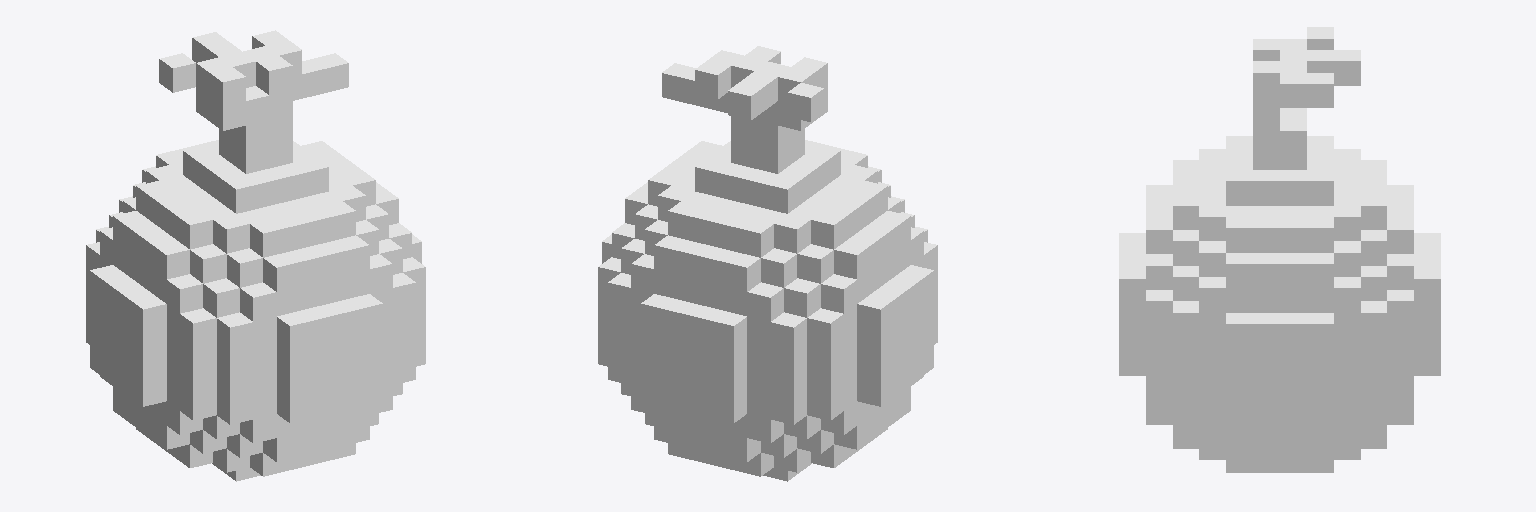
The model's file is Unripe.obj.
3 renders of one model, left to right at view 1: azimuth 30°, elevation 25°; view 2: azimuth 150°, elevation 25°; view 3: azimuth 270°, elevation 25°, orthographic.
Visible parts, largest first — view 1: object 1; view 2: object 1; view 3: object 1.
Part boxes in pixels (x1,y1,x2,y2): object 1: (86,30,425,481); object 1: (598,46,937,481); object 1: (1119,27,1440,472).
Bounding box in the file's own units: 1.2 × 1.6 × 1.2.